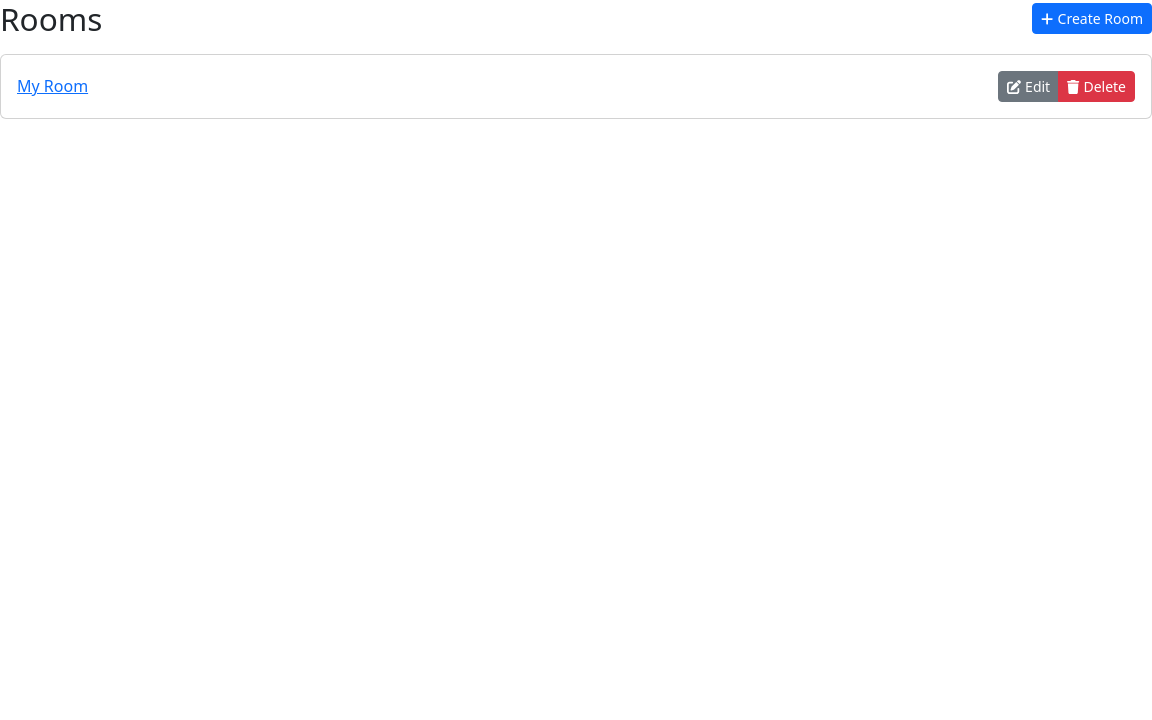
Test case: RoomListView › handles room editing
Step 1. Click the button "Edit" → (1029, 86), box [998,71,1059,102]
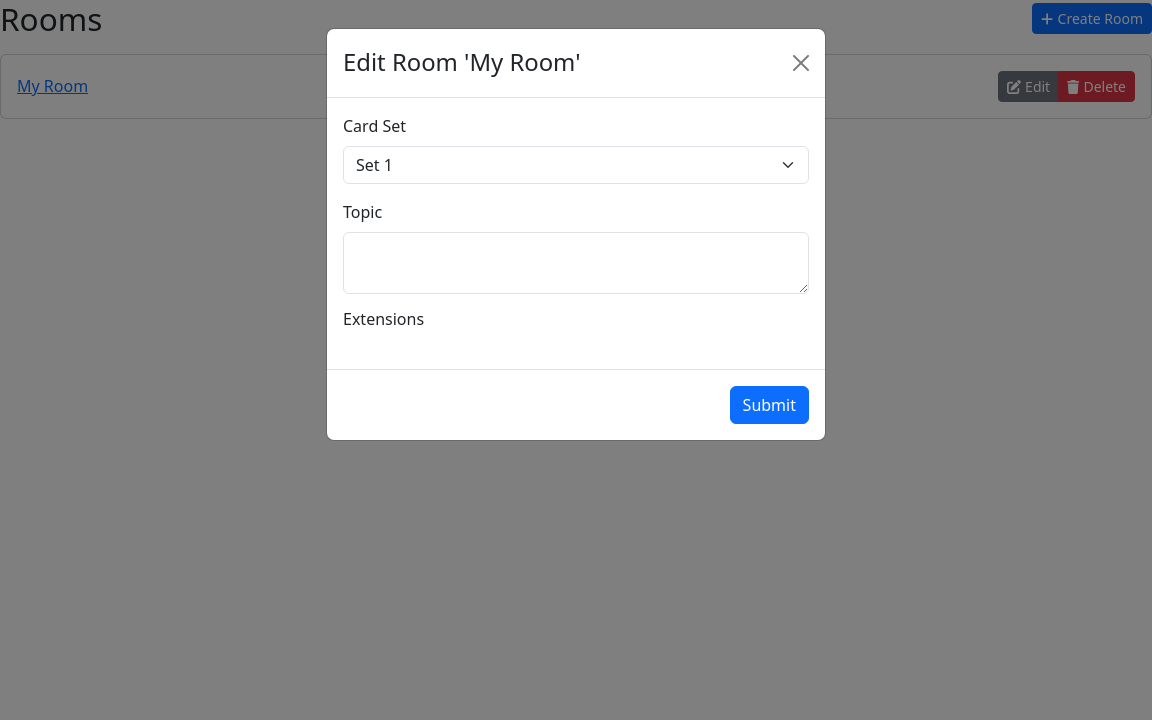
Step 2. Select "Set 2" in the dropdown labelled "Card Set" → (576, 165), box [343,146,809,184]
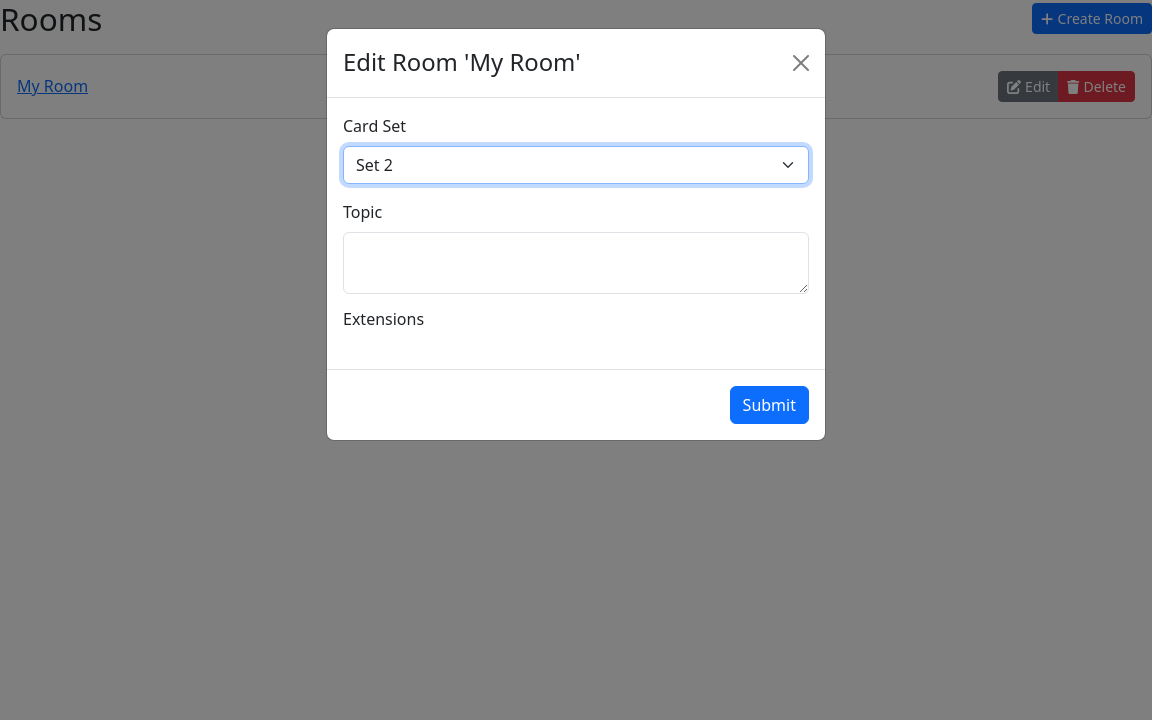
Step 3. Click the button "Submit" → (769, 405), box [730,386,809,424]
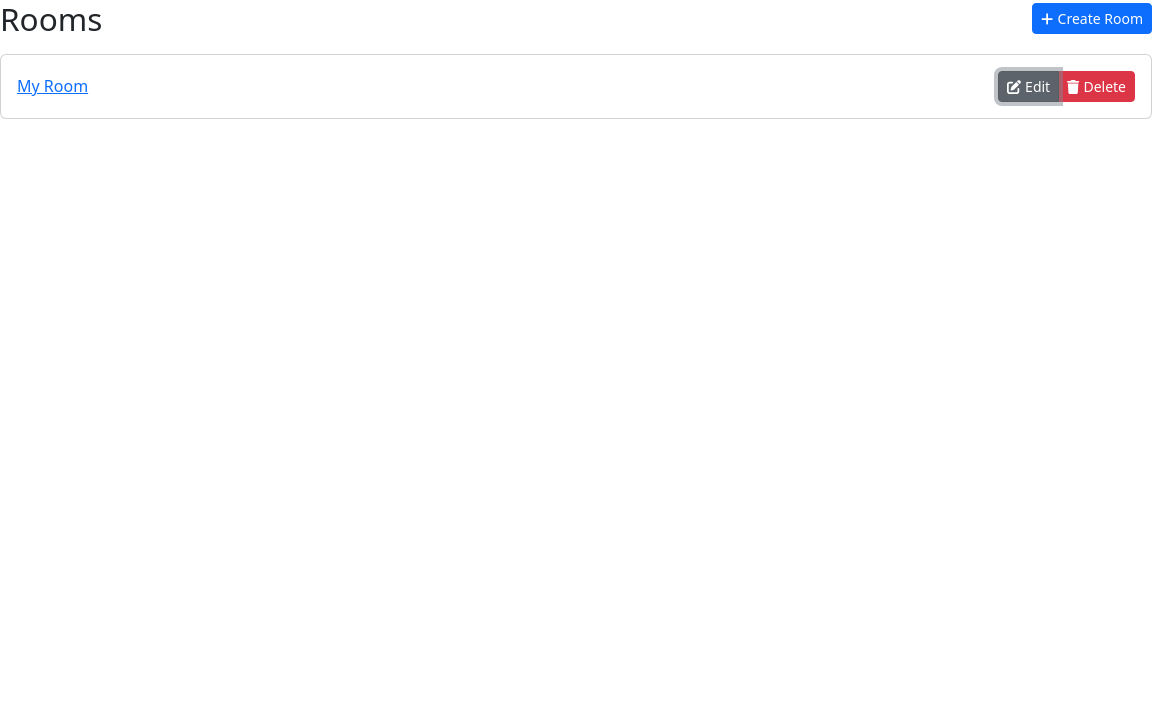
Expected: the text "Edit Room 'My Room'" is gone
